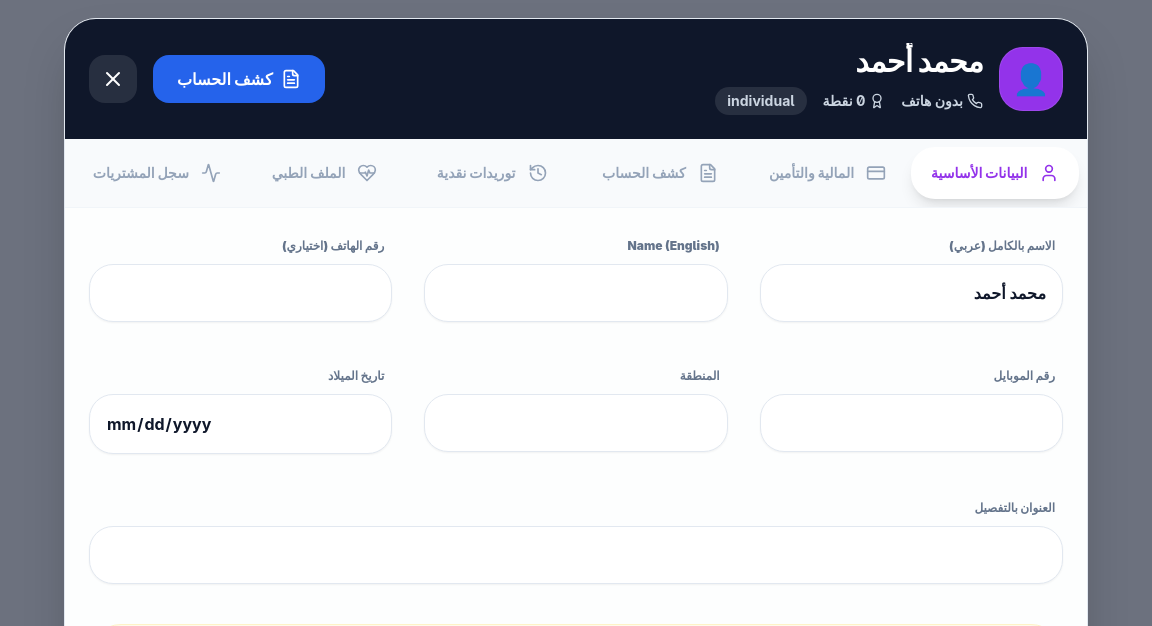
Test: keeps wallet balance visible but hides wallet top-up controls without cash-flow permission
Expected: the field showing "محمد أحمد" is shown, 760,264 -> 1063,322
Click the button "المالية والتأمين" at x=828, y=173, box 744,147 -> 911,199
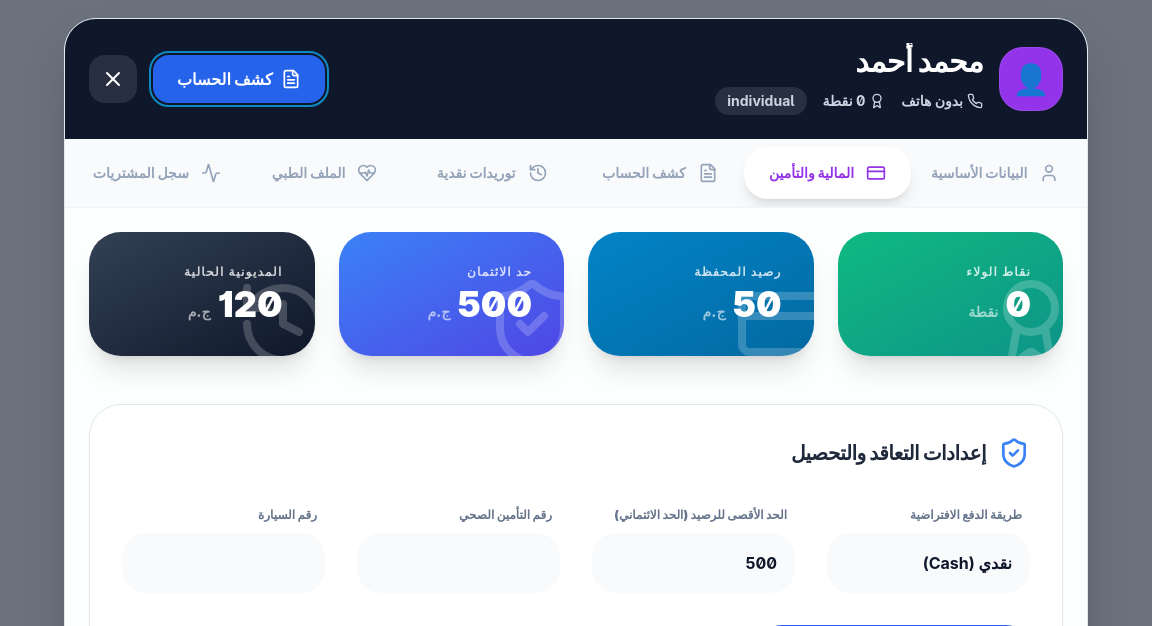
Now the text "رصيد المحفظة" is shown, box 694,264 -> 782,279
